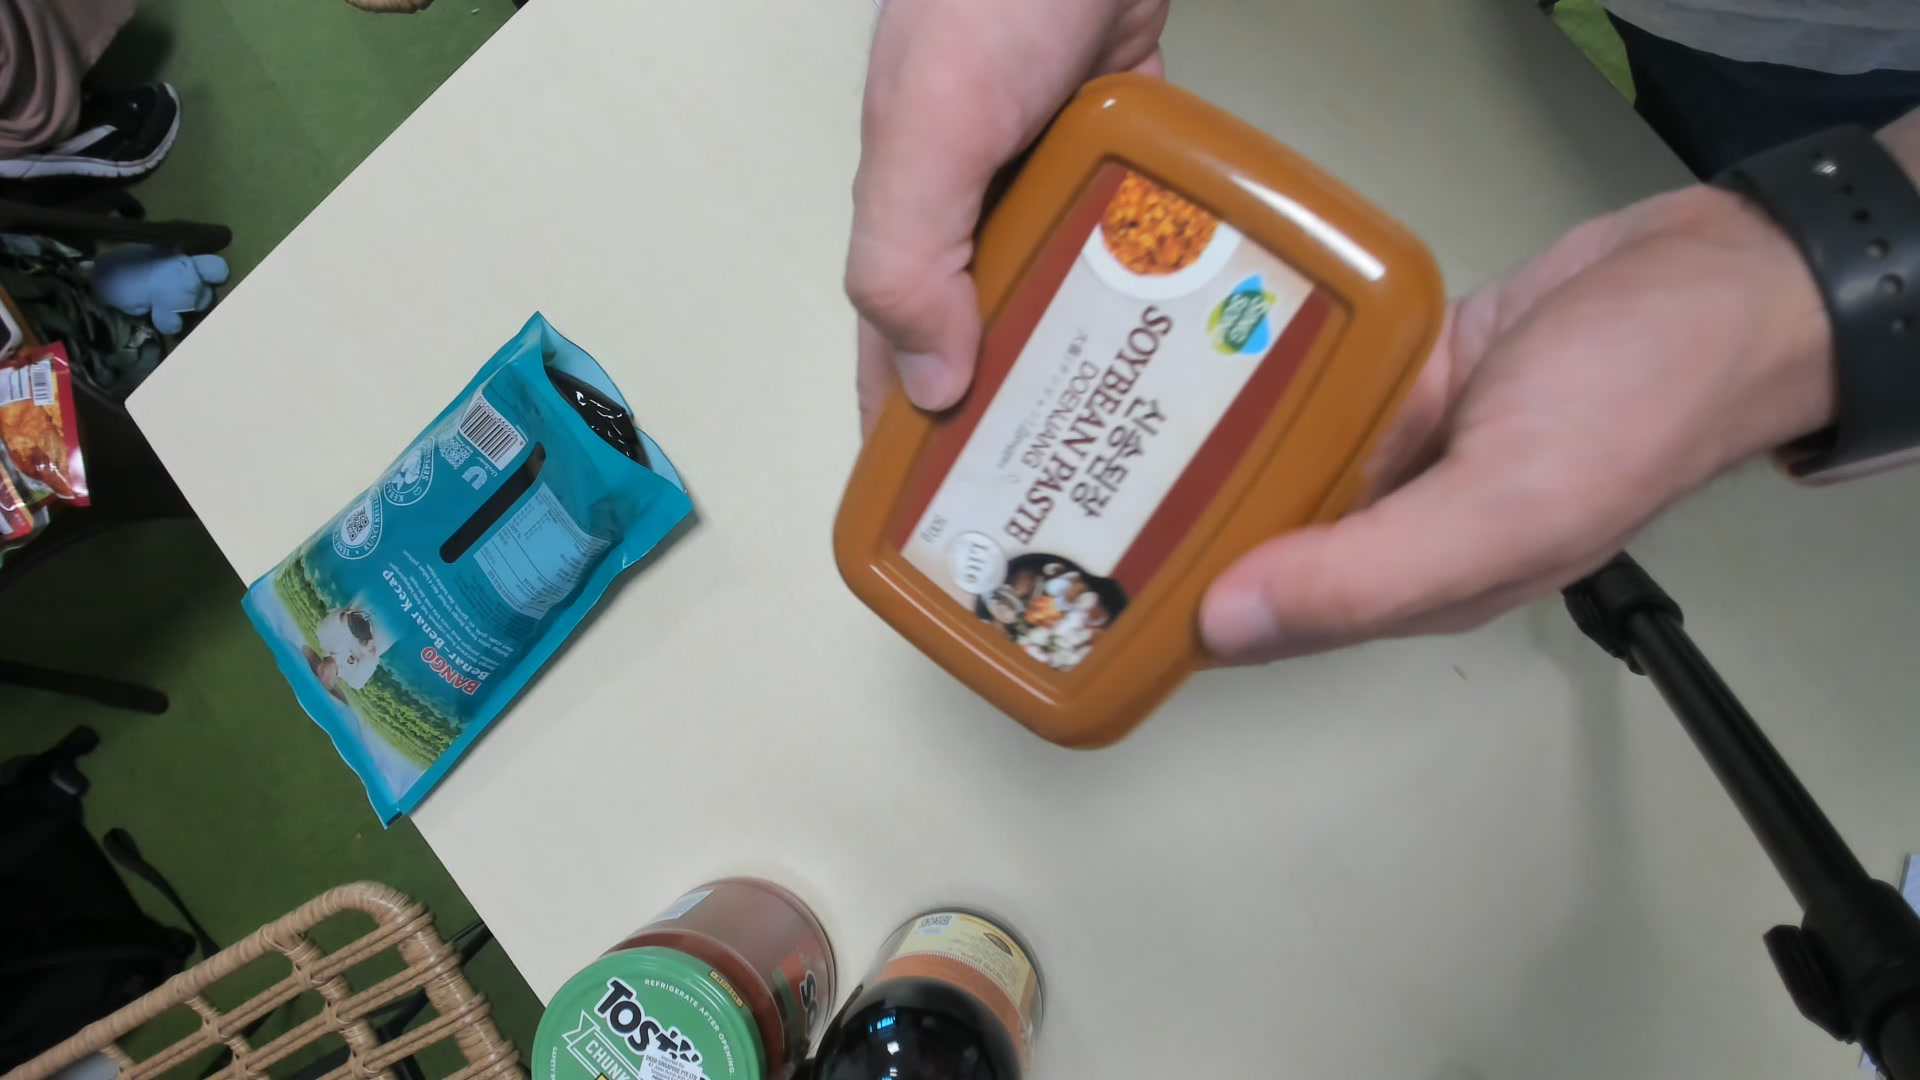OtherSauceDressing_500-599g_NonHalal_NonHealthy: (825, 62, 1443, 753)
